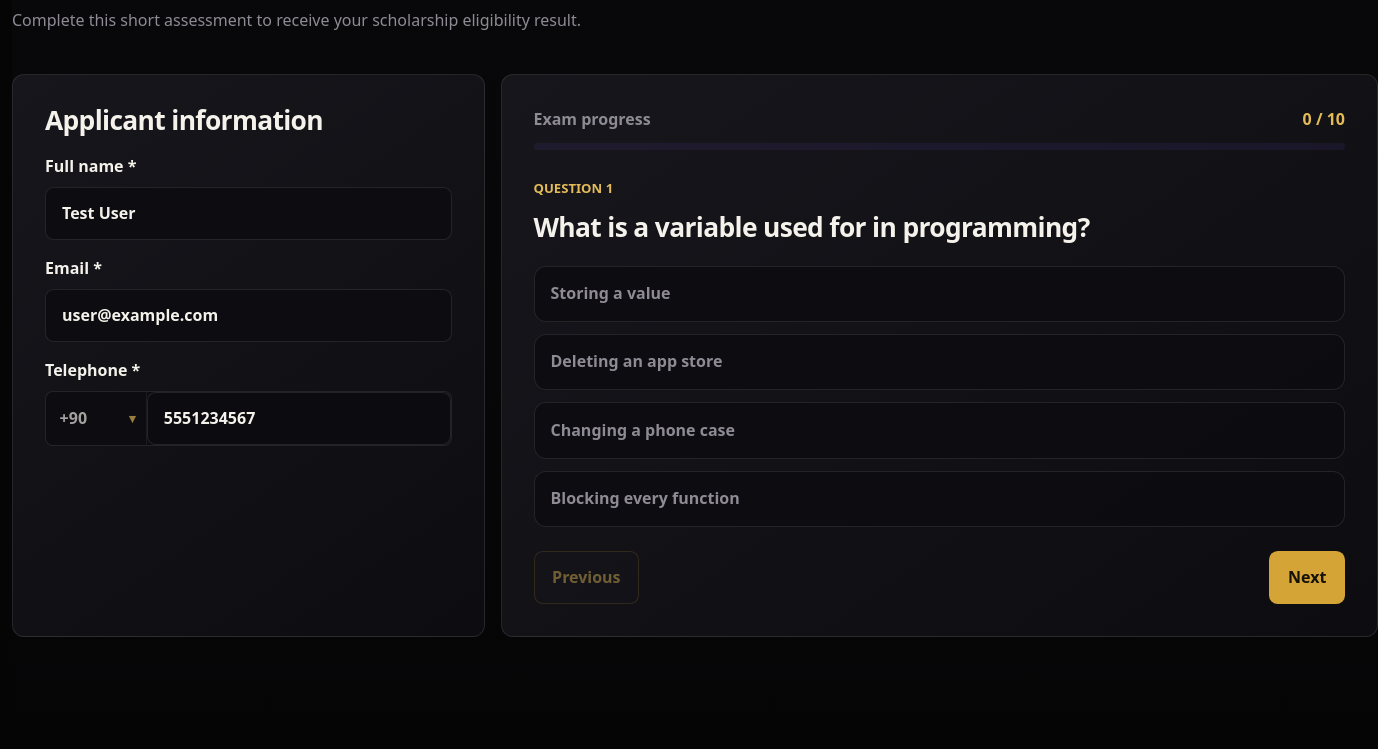
Test: ScholarshipExam one-attempt state › uses radio semantics and prevents advancing with an unanswered question
(page scrolled)
expect the element that starts with "Storing a value" is shown: met, box [534, 266, 1345, 527]
Step 1. Click the button "Next" → (1307,578), box [1270, 551, 1345, 604]
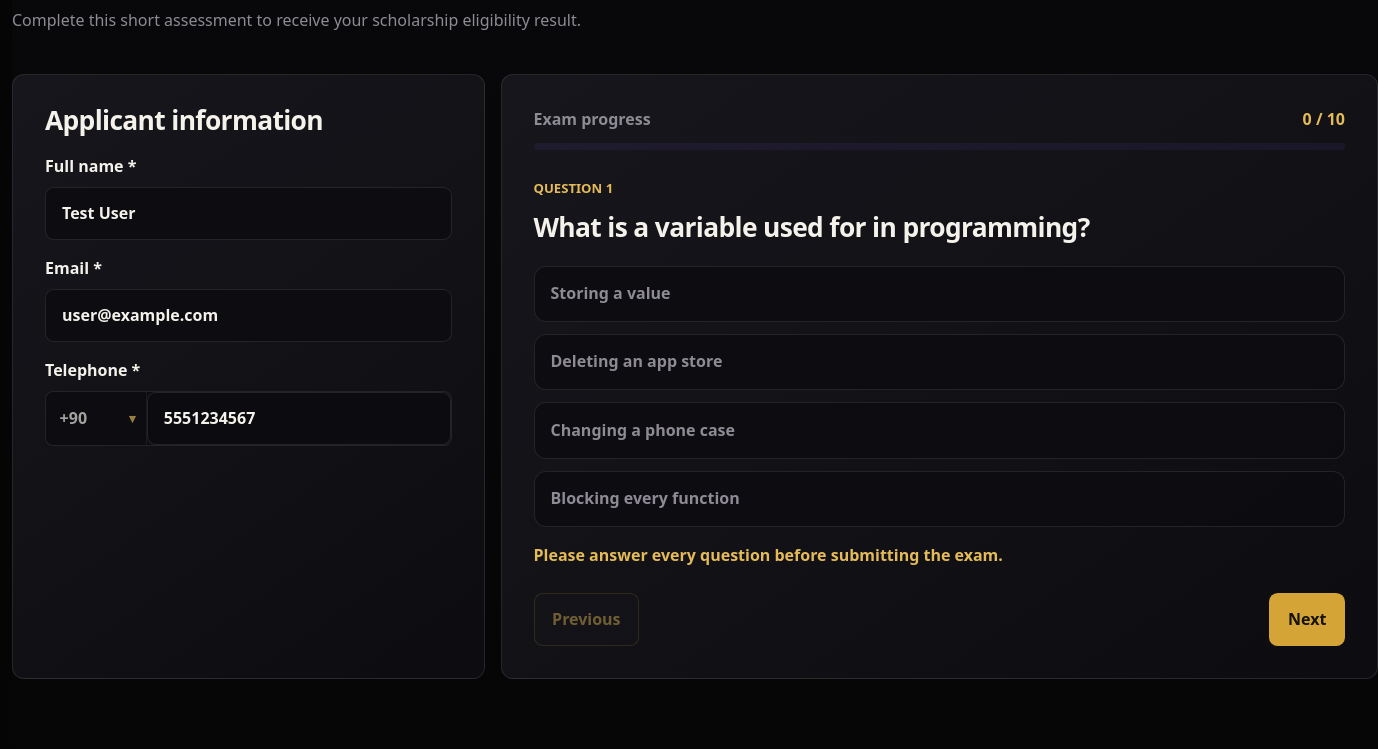
expect the text "Question 1" is shown: met, box [534, 179, 613, 197]
expect the message reads "Please answer every question before submitting the exam.": met, box [534, 544, 1003, 566]
